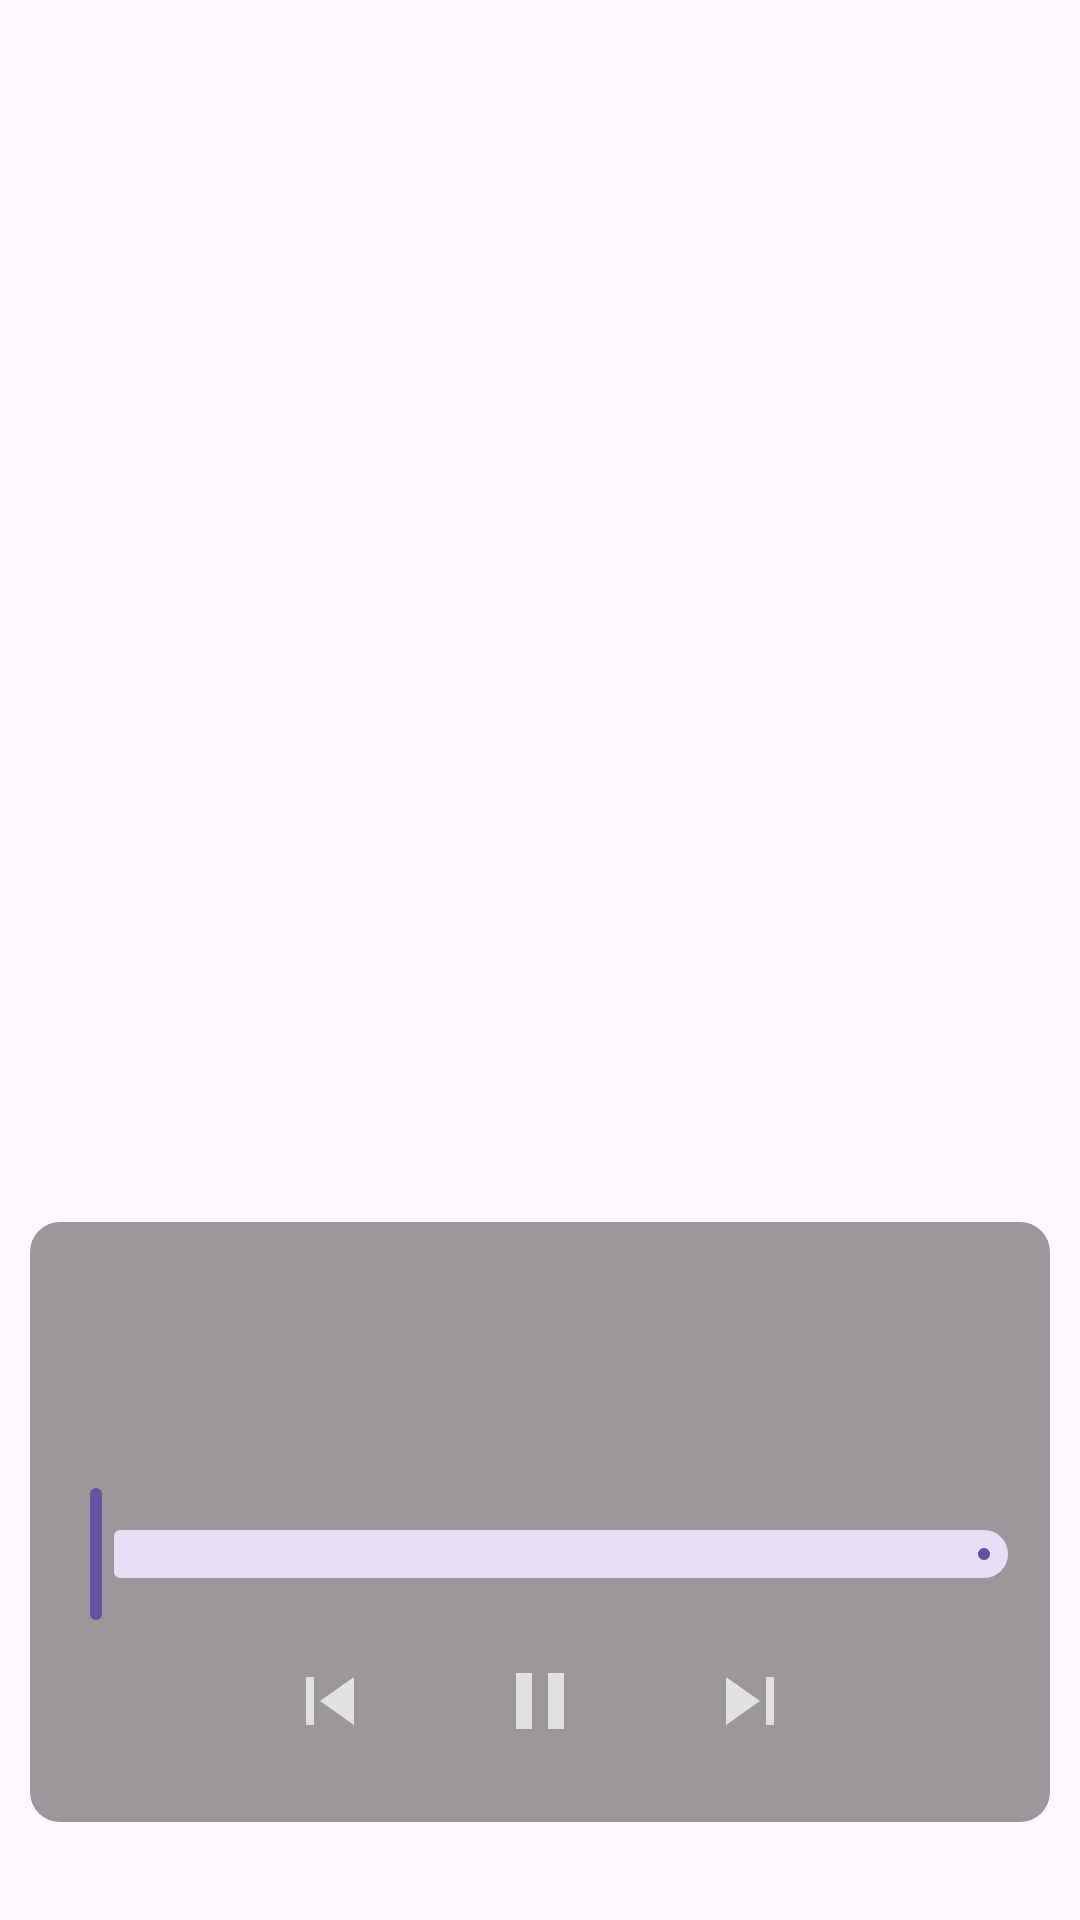

Where to tap for icons on this 1080*1920 app screen, as point (x, y):
exo next: point (750, 1701)
exo pause: point (540, 1701)
exo previous: point (330, 1701)
